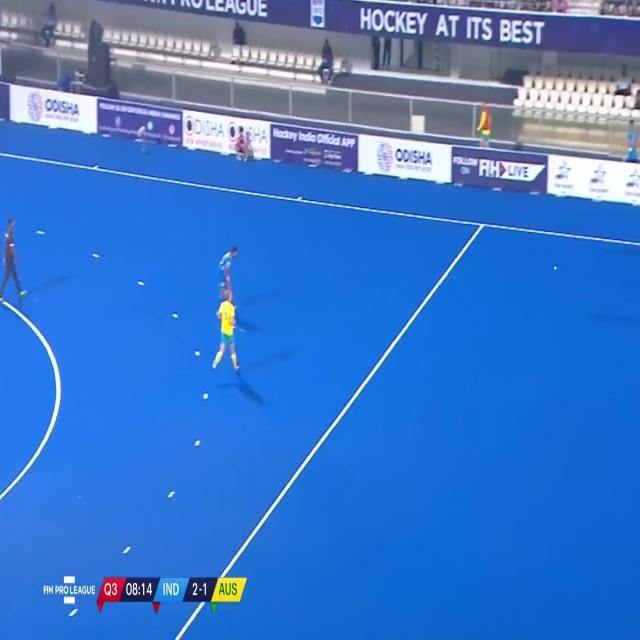ball: (551, 262, 559, 274)
